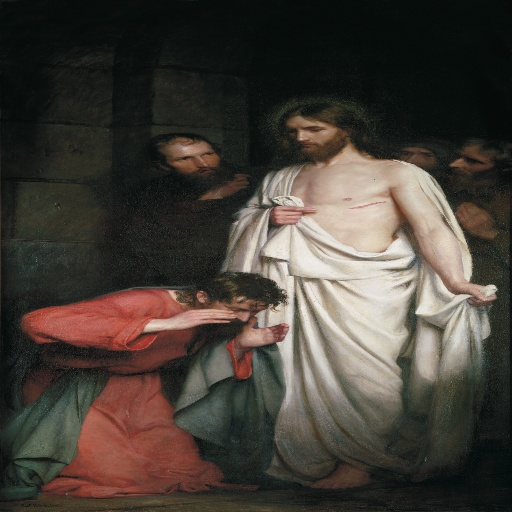hand: (140, 308, 243, 338), (234, 313, 292, 348), (451, 200, 496, 235), (446, 280, 498, 307), (205, 171, 255, 198), (267, 204, 318, 227)
